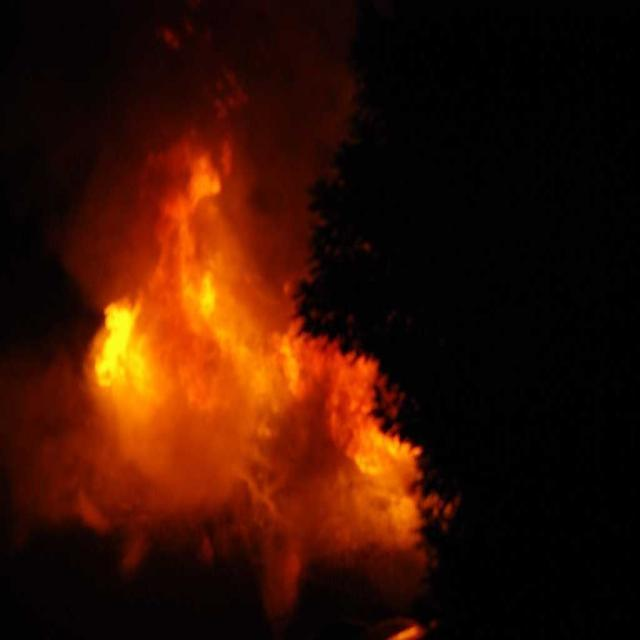Fire: (108, 307, 302, 497), (162, 150, 225, 294), (334, 378, 390, 518)
